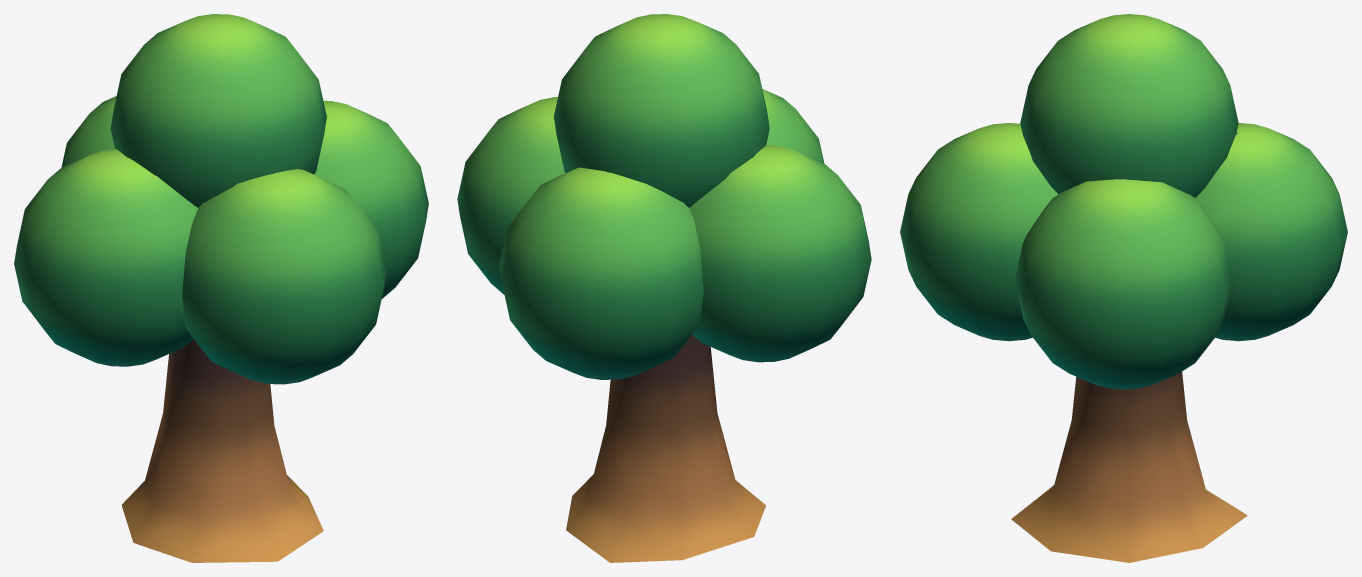
File: Tree.dae
The picture shows the model from 3 angles, left to right: view 1: azimuth 30°, elevation 25°; view 2: azimuth 150°, elevation 25°; view 3: azimuth 270°, elevation 25°; orthographic projection.
Visible parts, largest first — view 1: Tree; view 2: Tree; view 3: Tree.
Boxes of the visible parts, left/top/right/bottom form: Tree: left=14, top=14, right=428, bottom=562; Tree: left=457, top=14, right=871, bottom=562; Tree: left=900, top=14, right=1347, bottom=562.
Size of the model in its own units: 4.1 by 4.1 by 5.
1 material, 1 textured.
